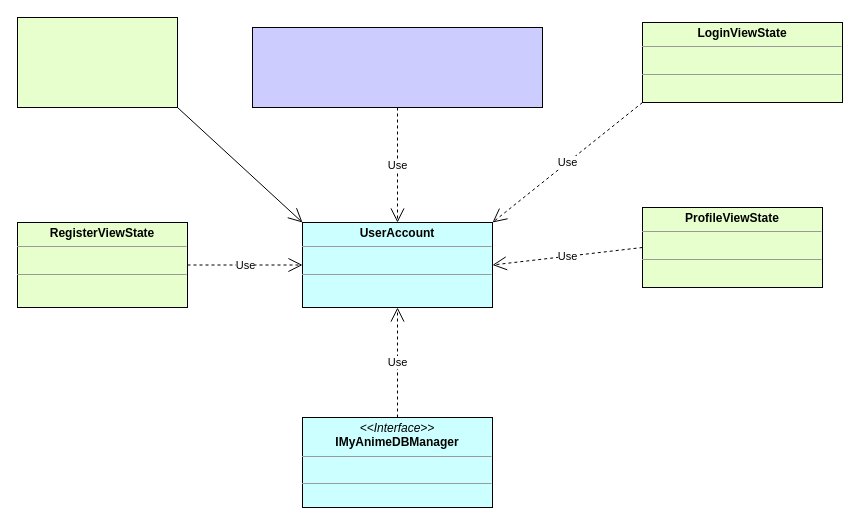
Some shapes in this 860 by 525 pixel diagram are drawn without their labels. The centre of each missing label's shape, as x and y in pixels:
"<<Interface>> IView" goes at point (97, 62).
"MyAnimeHubDBManagerJsonAdapter" goes at point (397, 67).
